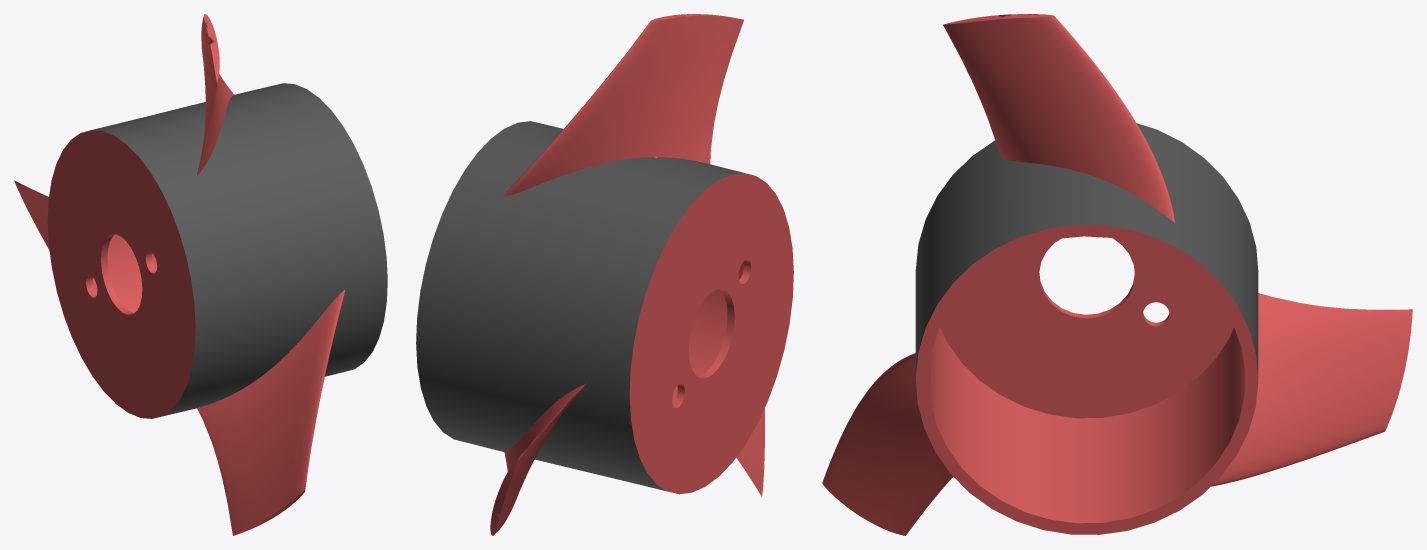
File: VUP.glb
3 views of the same model, side by side, from view 1: azimuth 30°, elevation 25°; view 2: azimuth 150°, elevation 25°; view 3: azimuth 270°, elevation 25° (orthographic). The views are drawn at different scales.
Parts seen in each view (by area): view 1: CAD_material_0, CAD_material_1; view 2: CAD_material_0, CAD_material_1; view 3: CAD_material_1, CAD_material_0.
Part boxes in pixels (left/top/right/bottom): CAD_material_0: left=92, top=83, right=387, bottom=417; CAD_material_1: left=14, top=14, right=345, bottom=535; CAD_material_0: left=416, top=121, right=748, bottom=491; CAD_material_1: left=490, top=14, right=793, bottom=535; CAD_material_1: left=822, top=14, right=1412, bottom=535; CAD_material_0: left=915, top=123, right=1258, bottom=377.
Bounding box in the file's own units: 0.03 × 0.0696 × 0.0689.
